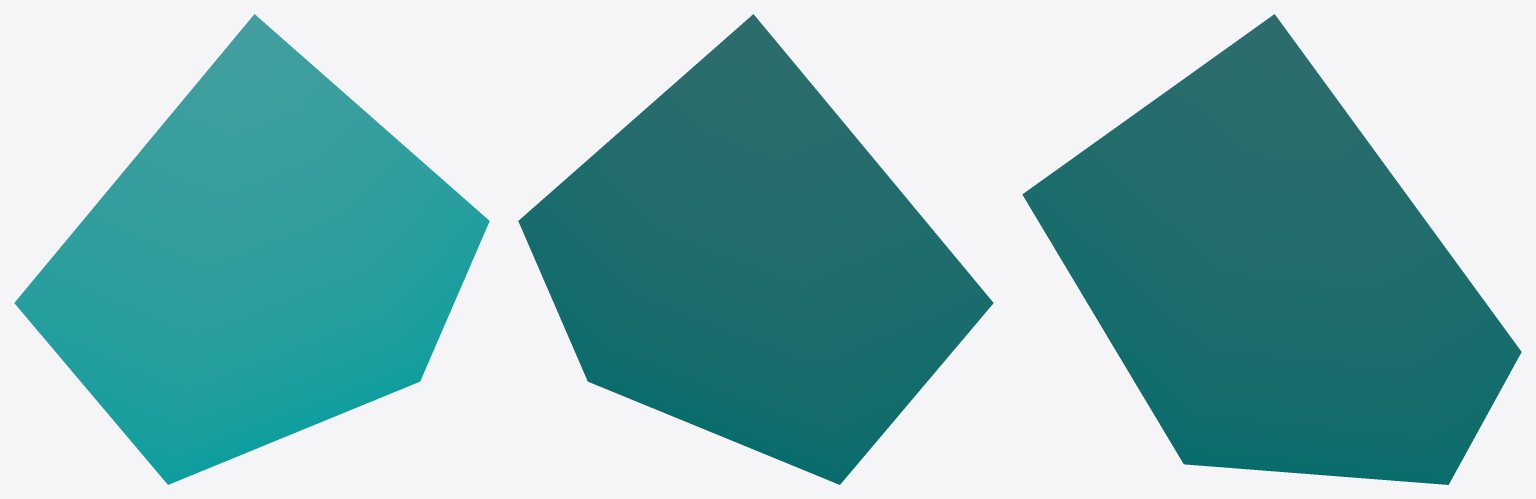
The model's file is Creeping_Saltbush_thckfiqr_Mid_thckfiqr_VarB_LOD3.fbx.
The picture shows the model from 3 angles, left to right: view 1: azimuth 30°, elevation 25°; view 2: azimuth 150°, elevation 25°; view 3: azimuth 330°, elevation 25°; orthographic projection. The views are drawn at different scales.
Visible parts, largest first — view 1: _1907_VarB_LOD4; view 2: _1907_VarB_LOD4; view 3: _1907_VarB_LOD4.
Boxes of the visible parts, x1,y1,x2,y2 form: _1907_VarB_LOD4: [14, 14, 489, 484]; _1907_VarB_LOD4: [518, 14, 993, 484]; _1907_VarB_LOD4: [1022, 14, 1521, 484].
Size of the model in its own units: 44.49 by 40.23 by 0.
